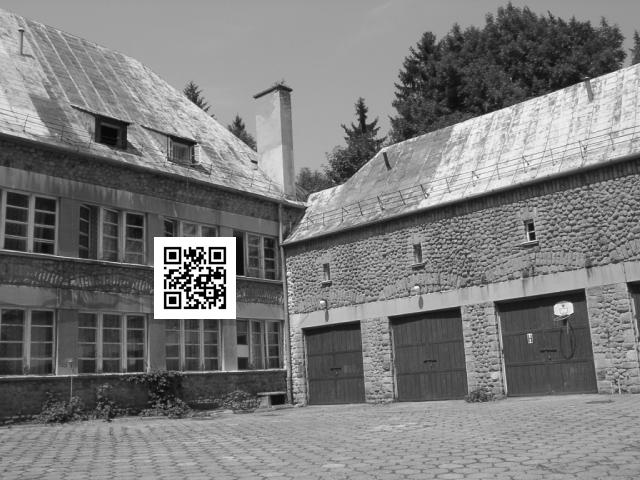qr_code: (155, 238, 235, 317)
